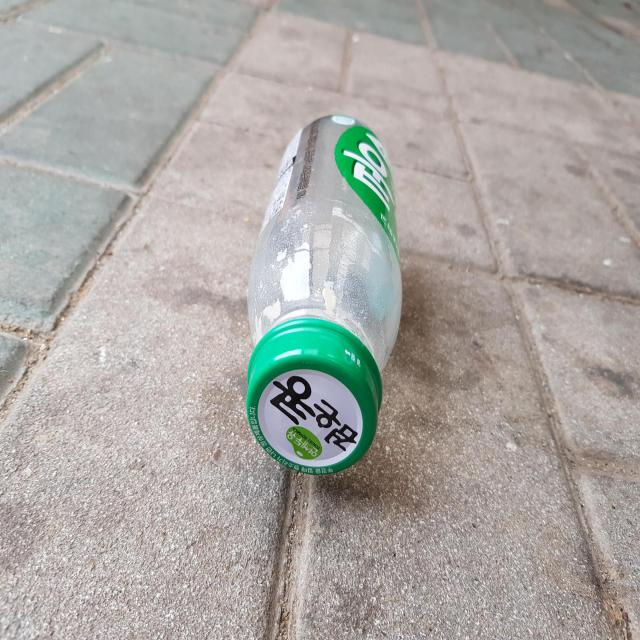glass: (247, 114, 402, 475)
